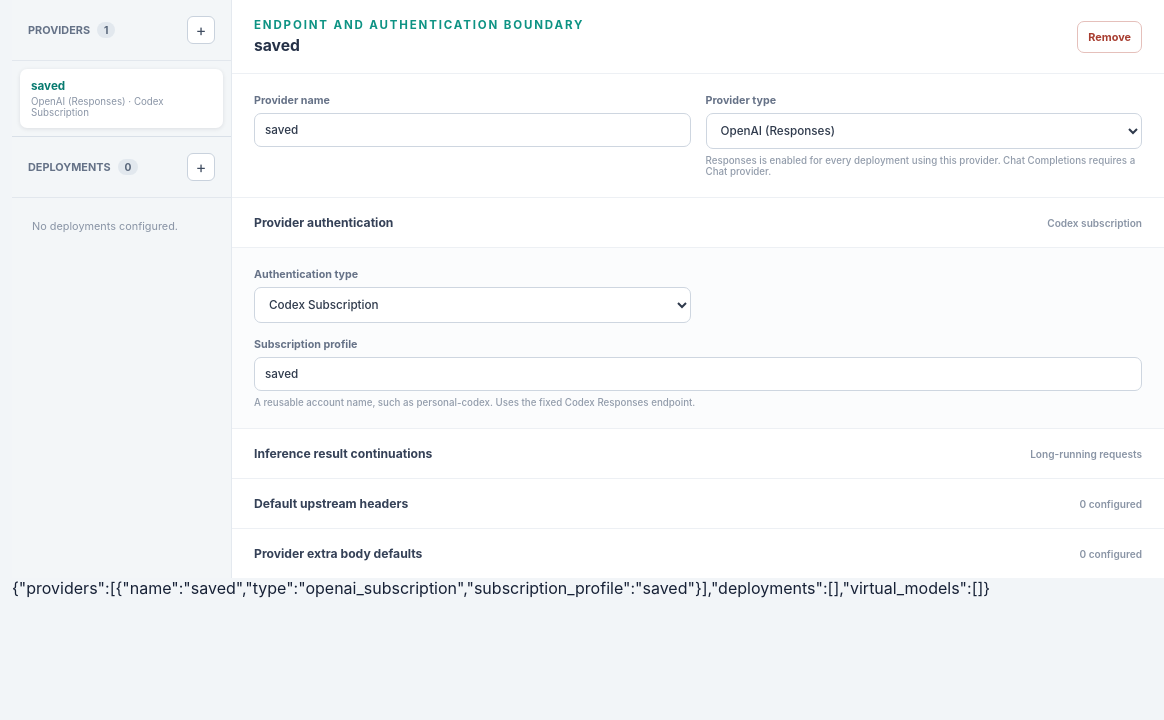
Native provider configuration › switches an already saved subscription back to ordinary API authentication
Select "Bearer" in the dropdown labelled "Authentication type" at (472, 305), box [254,287,690,323]
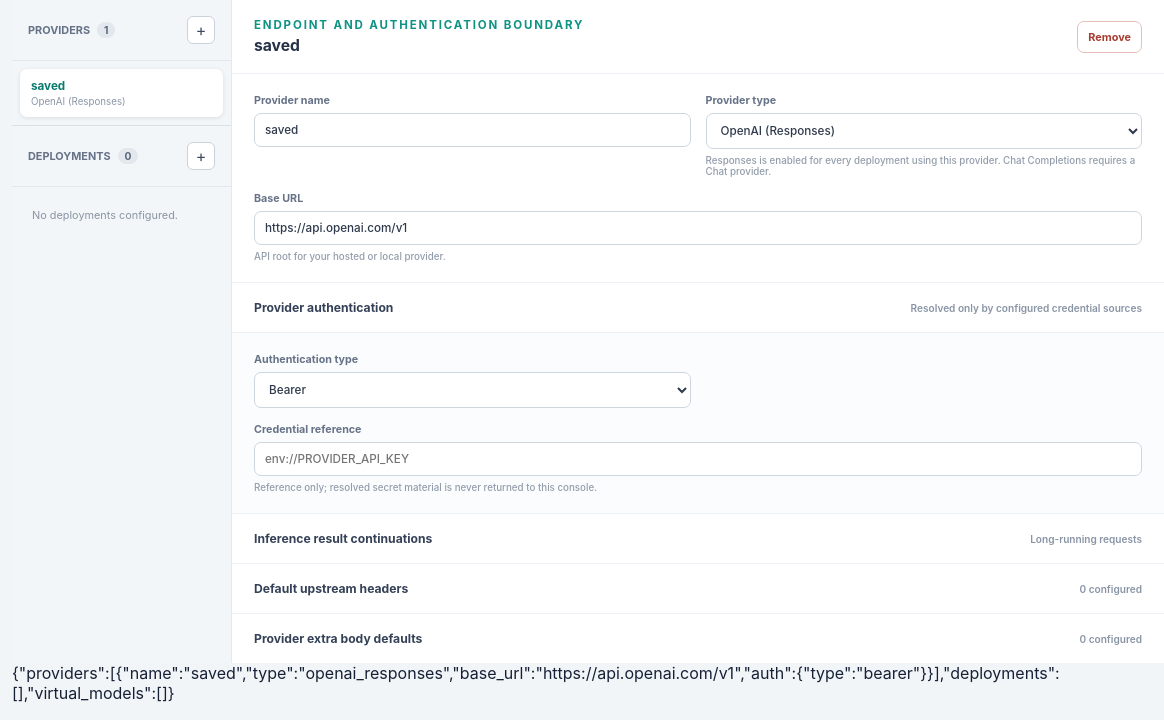
Expected: the text labelled "Subscription profile" is gone
